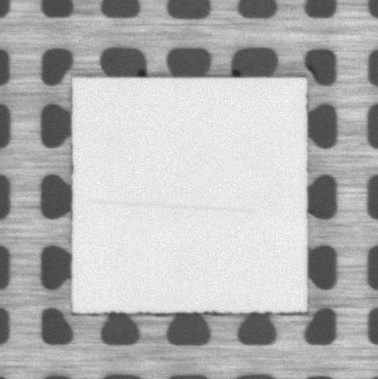DIE_CRACK: (84, 202, 254, 212)
